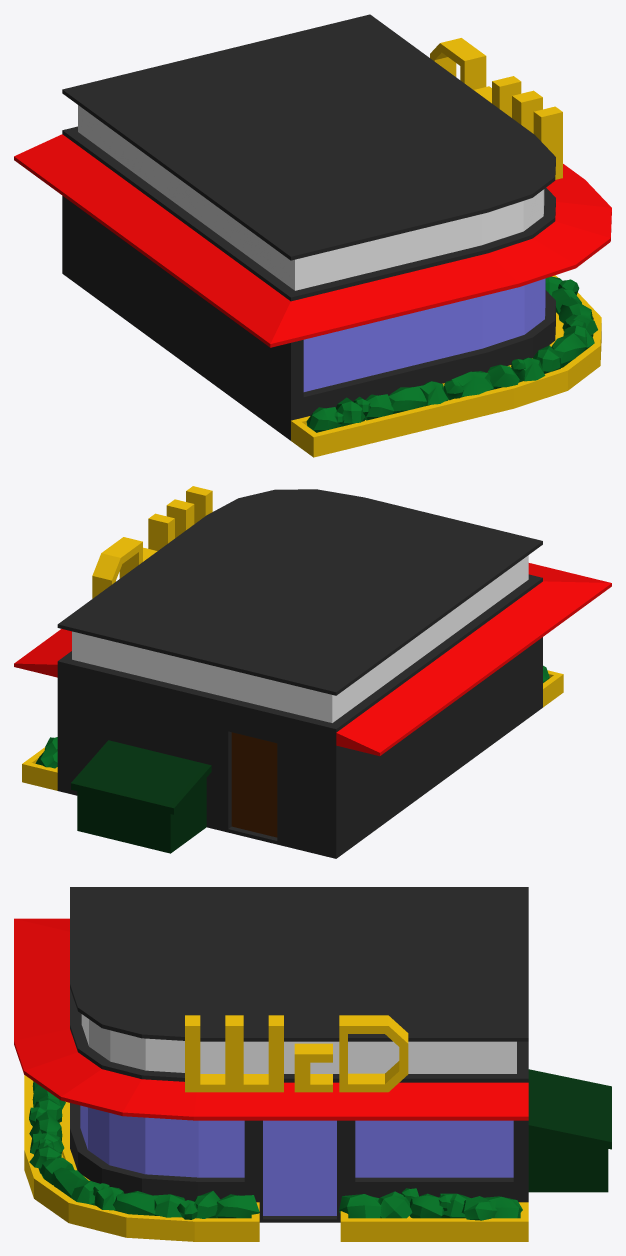
The model's file is WcD.FBX.
The picture shows the model from 3 angles, top to bottom: view 1: azimuth 30°, elevation 25°; view 2: azimuth 150°, elevation 25°; view 3: azimuth 270°, elevation 25°; orthographic projection. The views are drawn at different scales.
Visible parts, largest first — view 1: WcD; view 2: WcD; view 3: WcD.
Boxes of the visible parts, x1,y1,x2,y2 form: WcD: (14, 14, 611, 457); WcD: (14, 486, 611, 858); WcD: (14, 887, 611, 1241).
Bounding box in the file's own units: 362 × 177 × 462.
Materials: 1 (1 with a texture image).
